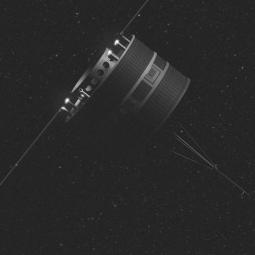double_start: (45, 33, 212, 178)
